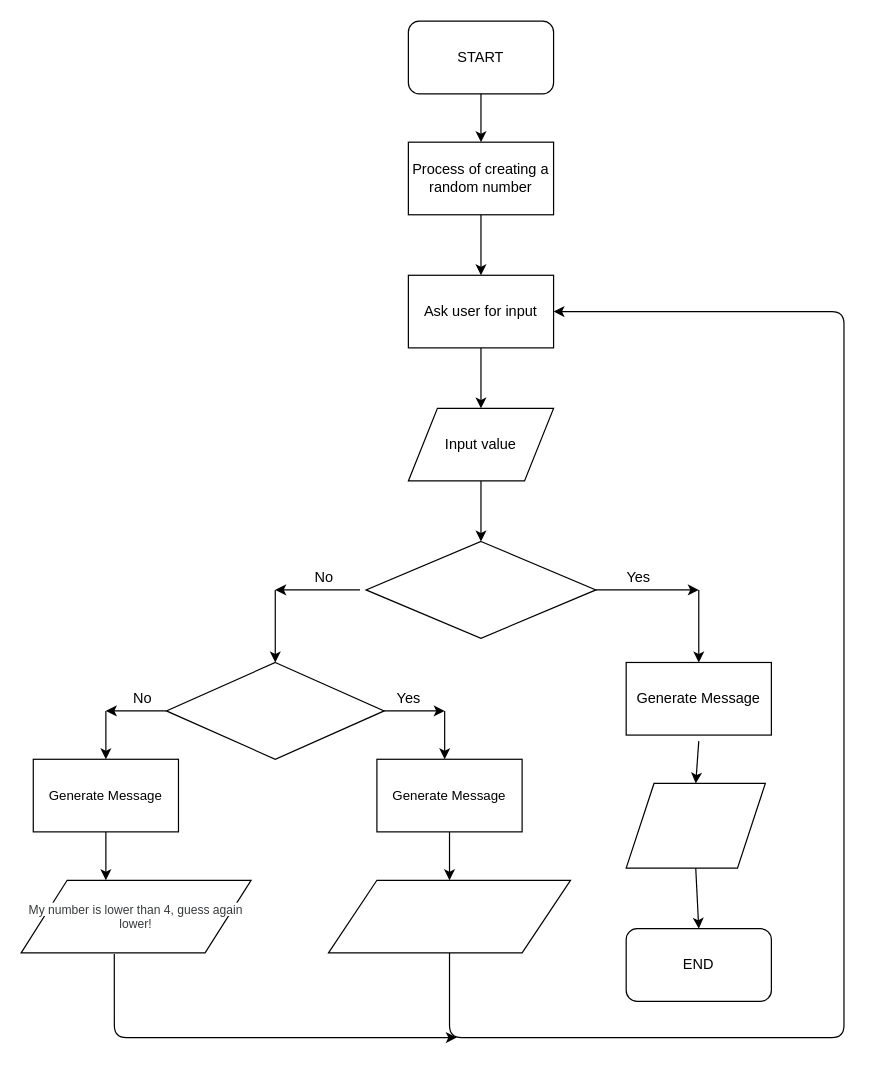
This 875x1068 diagram has some shape labels left out. Each missing label, with the box of its shape:
if input number < random number: (165, 661, 384, 759)
IF random umber equals input value: (365, 540, 596, 638)
My number is higher than (random number) guess again higher: (327, 879, 571, 953)
You are correct - the random number is: (625, 782, 765, 868)
